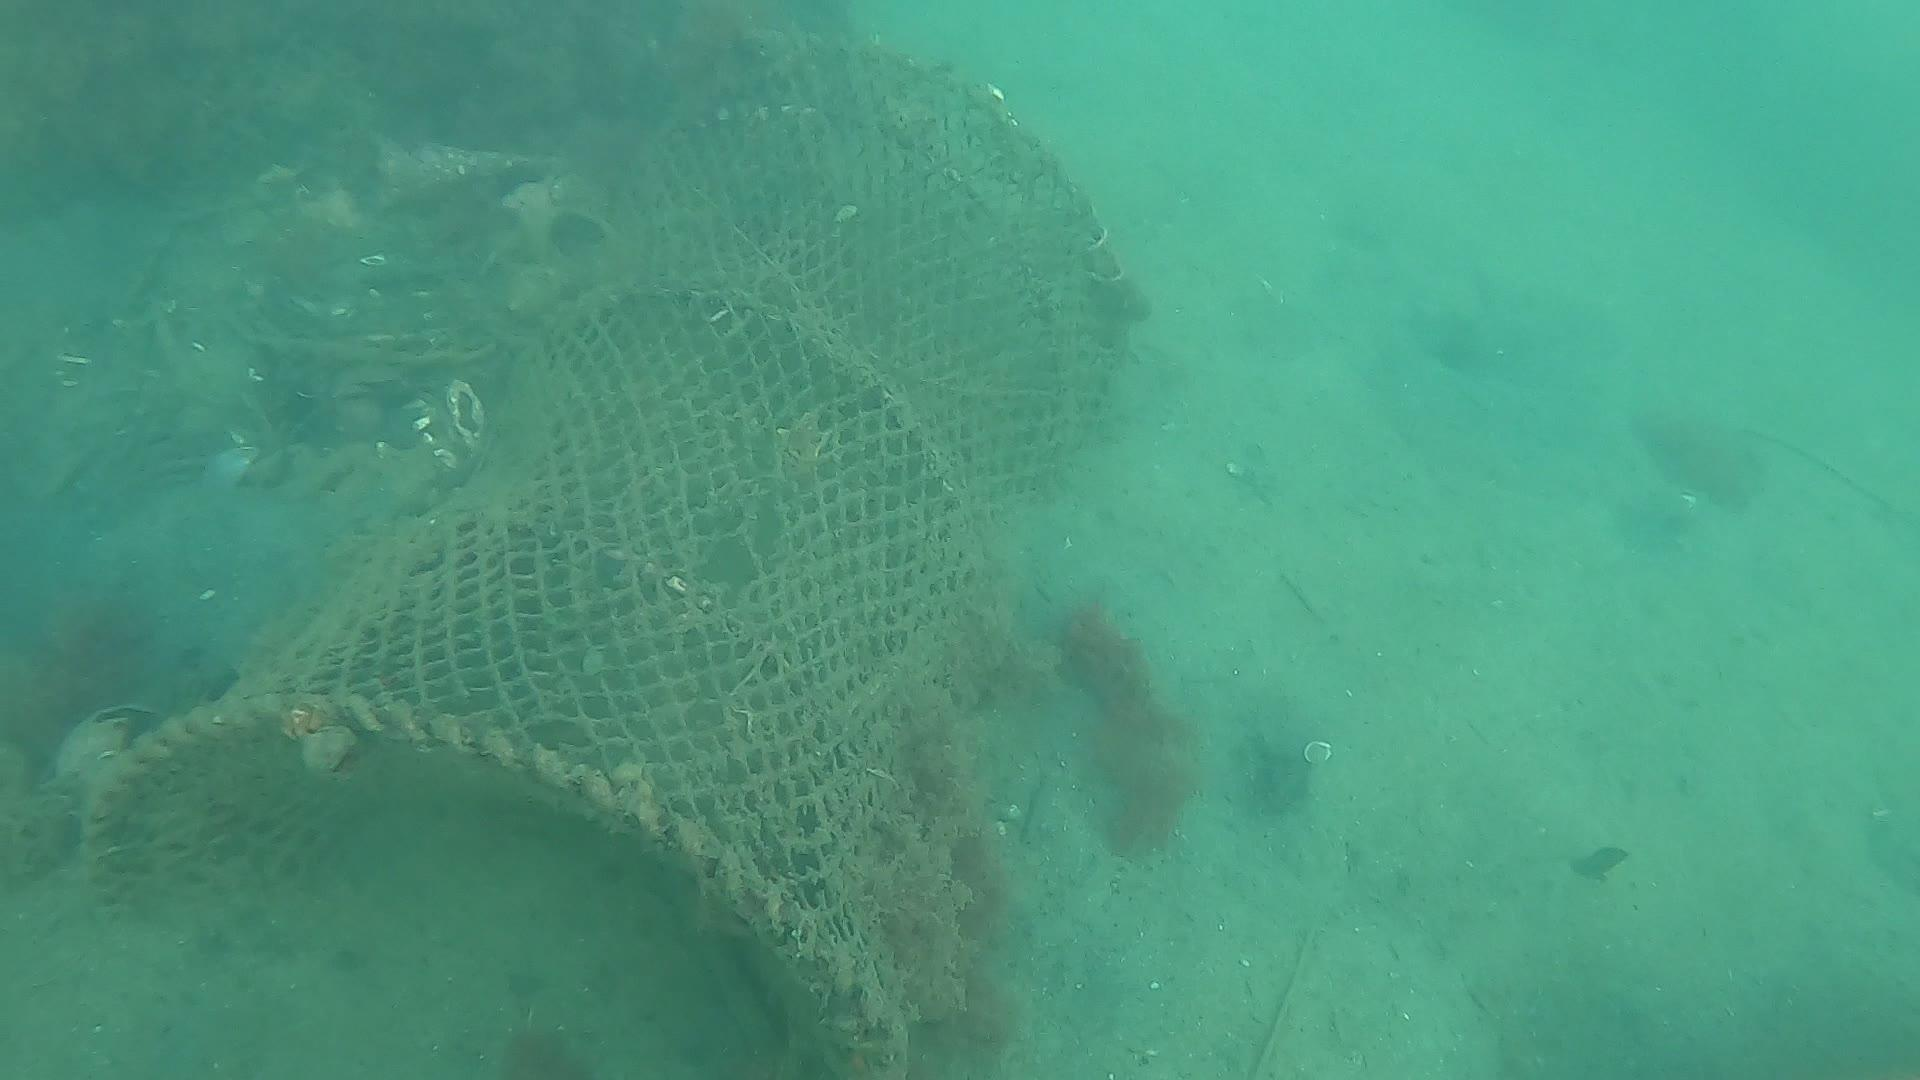spring fish trap: (75, 33, 1139, 1080)
